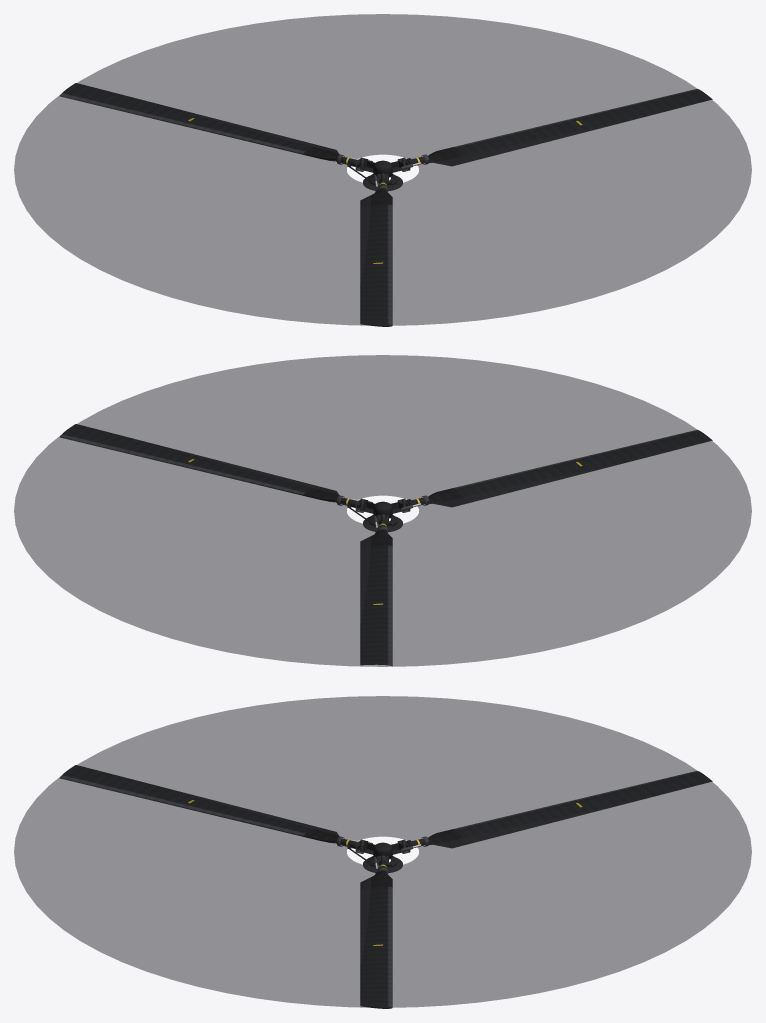
Rendered from ch47j_rotor.glb.
The picture shows the model from 3 angles, top to bottom: view 1: azimuth 30°, elevation 25°; view 2: azimuth 150°, elevation 25°; view 3: azimuth 270°, elevation 25°; orthographic projection.
Parts seen in each view (by area): view 1: CH-47J rotor; view 2: CH-47J rotor; view 3: CH-47J rotor.
Part boxes in pixels (bbox=[...]): CH-47J rotor: bbox=[14, 14, 751, 326]; CH-47J rotor: bbox=[14, 355, 751, 666]; CH-47J rotor: bbox=[14, 696, 751, 1008].
Size of the model in its own units: 18.36 by 0.7 by 18.36.
Materials: 7 (1 with a texture image).
